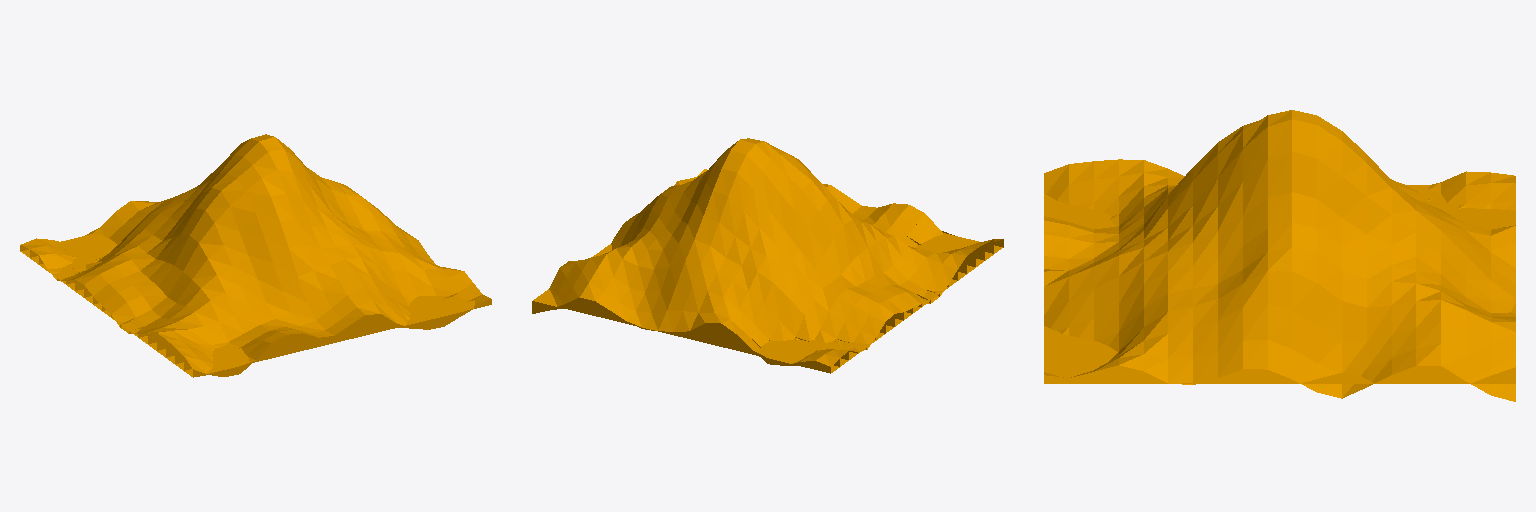
The robot description file, URDF, robot "mountain":
<?xml version="1.0"?>
<robot name="mountain">
  <link name="baseLink">
    <inertial>
      <origin xyz="0 0 0" rpy="0 0 0"/>
      <mass value="1"/>
      <inertia ixx="1" ixy="0" ixz="0" iyy="1" iyz="0" izz="1"/>
    </inertial>
    <visual>
      <origin xyz="0 0 0" rpy="0 0 0"/>
      <geometry>
        <mesh filename="my_gaussian_pyramid_2.obj" scale="1 1 1"/>
      </geometry>
    </visual>
    <collision>
      <origin xyz="0 0 0" rpy="0 0 0"/>
      <geometry>
        <mesh filename="my_gaussian_pyramid_2.obj" scale="1 1 1"/>
      </geometry>
    </collision>
  </link>
</robot>

--- What the picture shows (computed from the rendered views, not written in the file) ---
3 views of the same robot in one strip: view 1: azimuth 30°, elevation 25°; view 2: azimuth 150°, elevation 25°; view 3: azimuth 270°, elevation 25° (orthographic).
Model mountain with 1 links and 0 joints (none), rooted at baseLink, posed every joint at zero.
Links seen in each view (by area): view 1: baseLink; view 2: baseLink; view 3: baseLink.
Boxes of the visible links, <box> form: baseLink: <box>20,134,491,377</box>; baseLink: <box>532,138,1003,373</box>; baseLink: <box>1044,110,1515,401</box>.
Bounding box of the posed robot: 9.5 × 9.5 × 4.48 m (x, y, z).
Meshes: 1 distinct files referenced, 1 mesh visuals loaded (1 OBJ).
